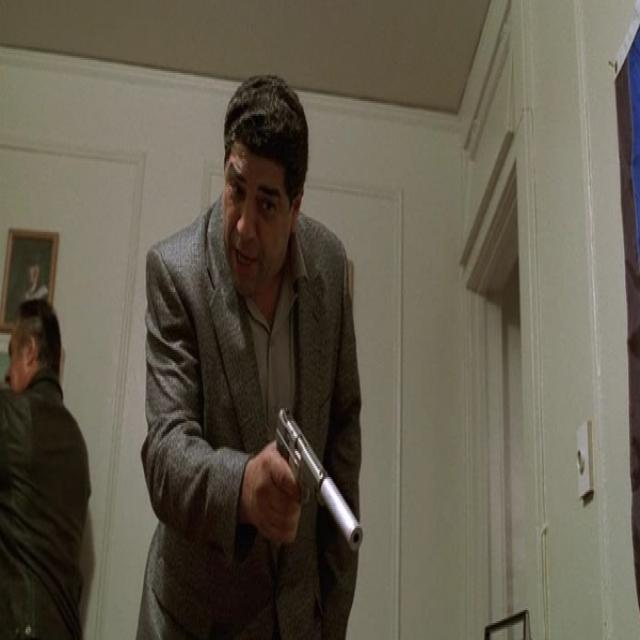weapons: (260, 396, 370, 590)
